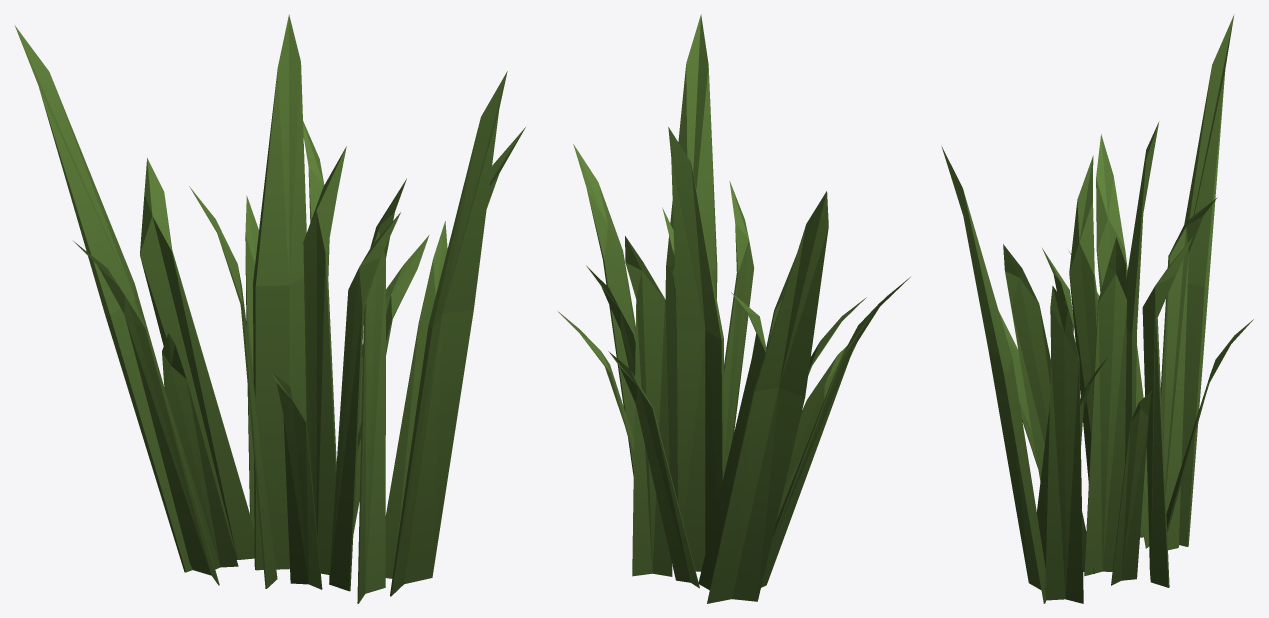
The model's file is Env_Grass_Patch_Green_04.obj.
The picture shows the model from 3 angles, left to right: view 1: azimuth 30°, elevation 25°; view 2: azimuth 150°, elevation 25°; view 3: azimuth 270°, elevation 25°; orthographic projection. The views are drawn at different scales.
Parts seen in each view (by area): view 1: Env_Grass_Patch_Green_04; view 2: Env_Grass_Patch_Green_04; view 3: Env_Grass_Patch_Green_04.
Part boxes in pixels (x1,y1,x2,y2): Env_Grass_Patch_Green_04: (15, 14, 525, 603); Env_Grass_Patch_Green_04: (558, 14, 910, 603); Env_Grass_Patch_Green_04: (941, 14, 1253, 603).
Size of the model in its own units: 0.45 by 0.5523 by 0.3376.
1 material, 1 textured.
